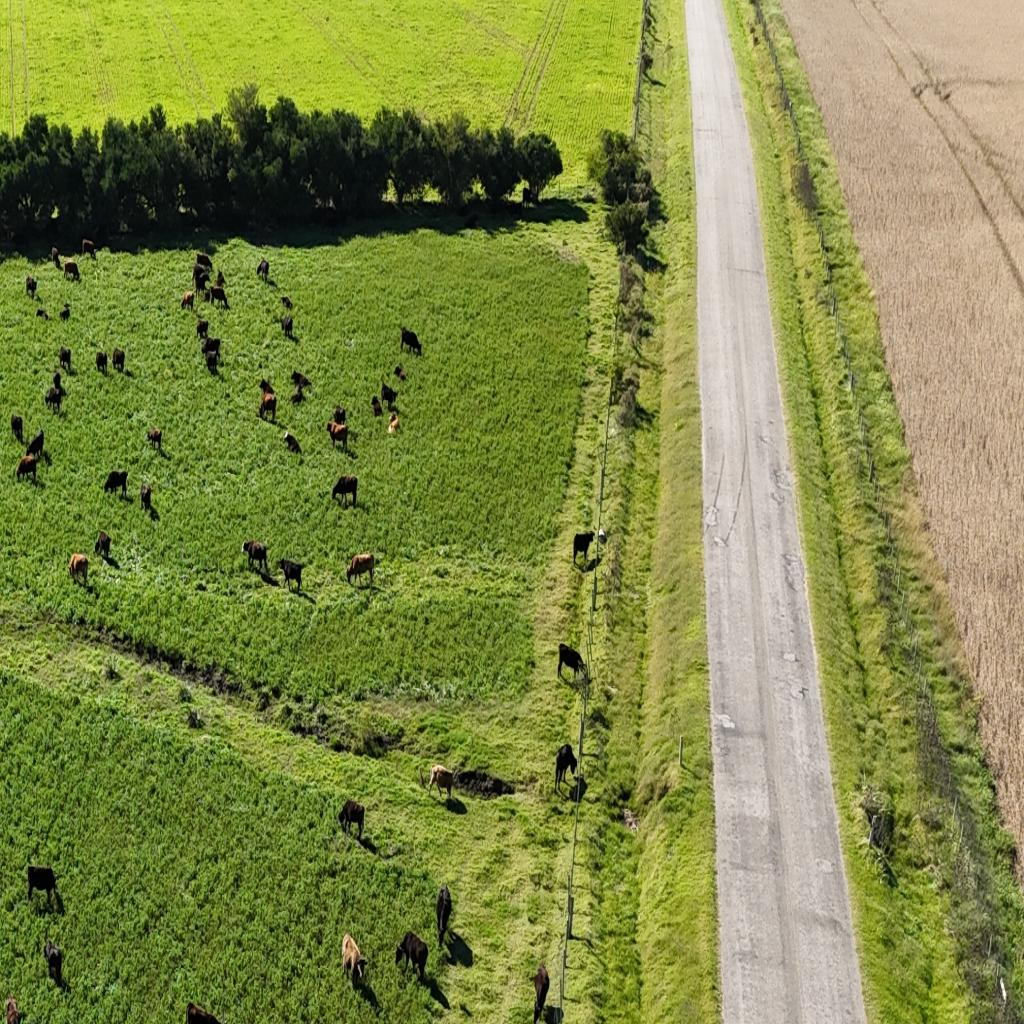cow: (392, 911, 435, 996), (37, 937, 79, 989), (342, 933, 369, 987), (553, 740, 578, 794), (27, 865, 59, 907), (337, 798, 365, 839), (532, 961, 550, 1024), (435, 883, 452, 948), (558, 642, 586, 680), (427, 764, 455, 800), (278, 558, 305, 594), (347, 552, 375, 586), (332, 474, 357, 509), (242, 540, 268, 573), (398, 325, 426, 355), (573, 530, 595, 566), (327, 421, 349, 455), (68, 553, 90, 586), (187, 1002, 221, 1023), (16, 454, 38, 486), (104, 469, 129, 497), (259, 391, 277, 424), (26, 430, 44, 460), (290, 370, 312, 394), (94, 530, 111, 560), (5, 997, 23, 1024), (208, 285, 228, 309), (202, 336, 220, 362), (381, 382, 398, 409), (45, 386, 62, 412), (63, 260, 80, 283), (284, 432, 301, 455), (11, 414, 24, 444), (194, 268, 210, 292), (147, 428, 162, 452), (59, 346, 72, 373), (140, 484, 152, 512), (204, 254, 219, 276), (112, 348, 125, 373), (195, 252, 212, 271), (331, 405, 346, 426), (256, 258, 269, 282), (95, 351, 108, 375), (281, 314, 293, 340), (260, 376, 275, 396), (197, 318, 209, 342), (180, 291, 194, 311), (387, 412, 399, 435), (52, 371, 65, 392), (370, 395, 382, 417), (82, 240, 95, 260), (521, 186, 532, 209), (393, 364, 407, 382), (290, 388, 304, 406), (26, 276, 37, 298), (462, 214, 478, 229), (41, 448, 52, 466), (281, 295, 293, 310), (51, 247, 60, 267), (215, 269, 225, 287), (60, 305, 70, 322), (36, 308, 48, 321), (399, 326, 407, 345), (95, 263, 102, 276)
